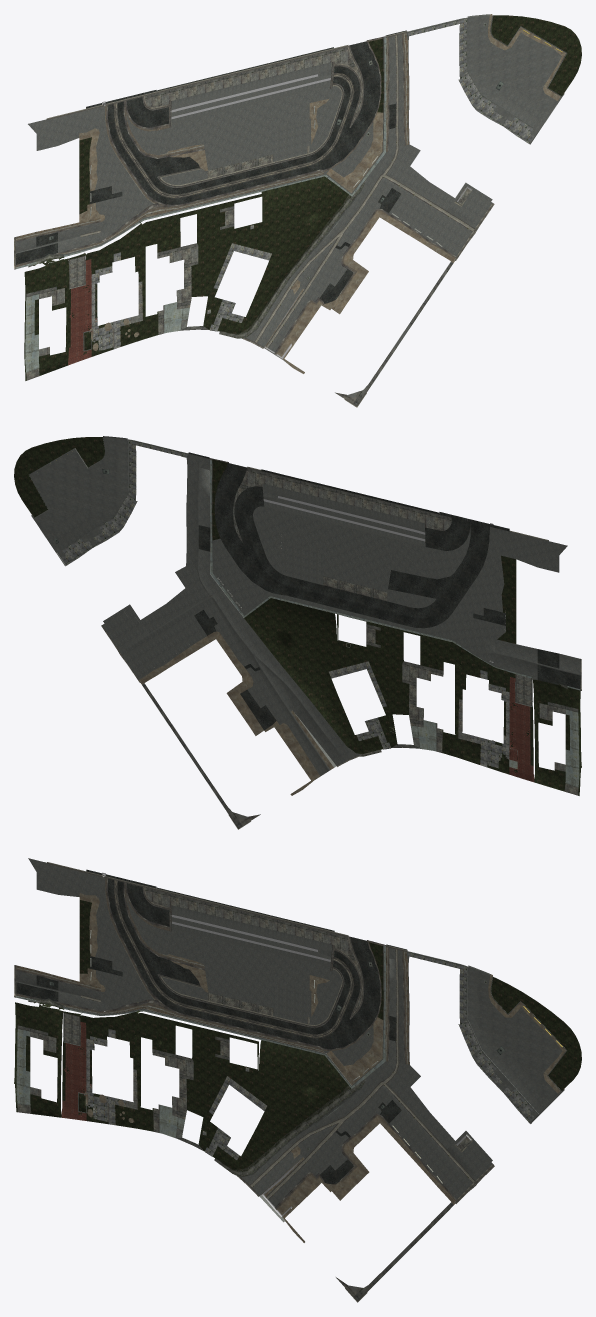
Rendered from SC11_ground01..fbx.
3 views of the same model, one above another, from view 1: azimuth 30°, elevation 25°; view 2: azimuth 150°, elevation 25°; view 3: azimuth 330°, elevation 25° (orthographic).
Parts seen in each view (by area): view 1: sc1_11_ground01; view 2: sc1_11_ground01; view 3: sc1_11_ground01.
Part boxes in pixels (<box>): sc1_11_ground01: <box>14,14,581,407</box>; sc1_11_ground01: <box>14,436,581,829</box>; sc1_11_ground01: <box>14,858,581,1302</box>.
Bounding box in the file's own units: 15884 × 9839 × 295.
